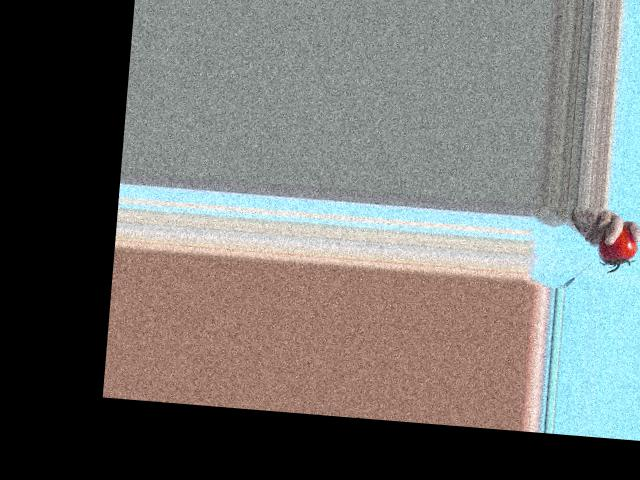tomato: (597, 224, 639, 266)
